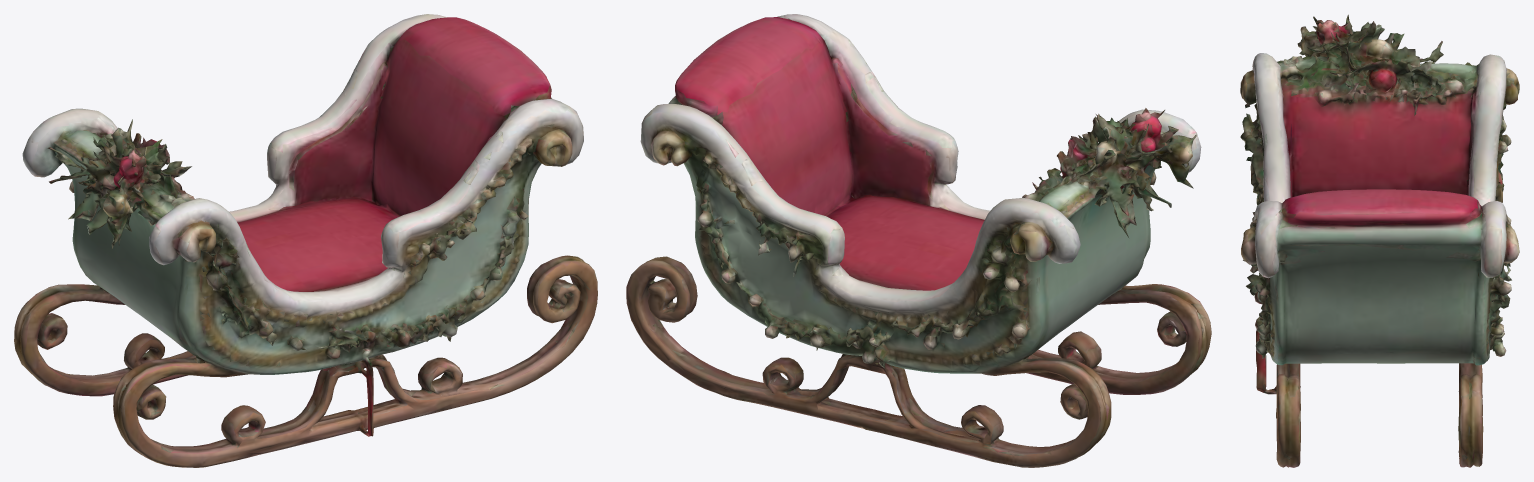
3 views of the same model, side by side, from view 1: azimuth 30°, elevation 25°; view 2: azimuth 150°, elevation 25°; view 3: azimuth 270°, elevation 25° (orthographic). The views are drawn at different scales.
Visible parts, largest first — view 1: Mesh_0; view 2: Mesh_0; view 3: Mesh_0.
Boxes of the visible parts, <box> form: Mesh_0: <box>14,14,597,467</box>; Mesh_0: <box>626,14,1211,467</box>; Mesh_0: <box>1240,14,1519,467</box>.
Bounding box in the file's own units: 1.99 × 1.28 × 1.1.
Materials: 1 (1 with a texture image).
